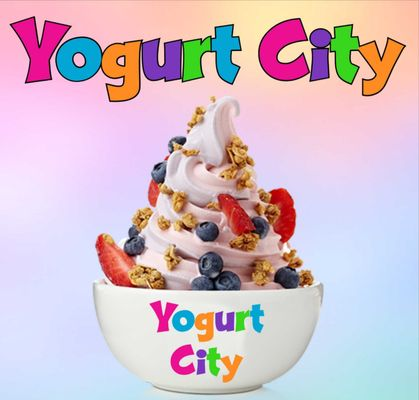sushi: (93, 96, 324, 394), (96, 97, 311, 291)
